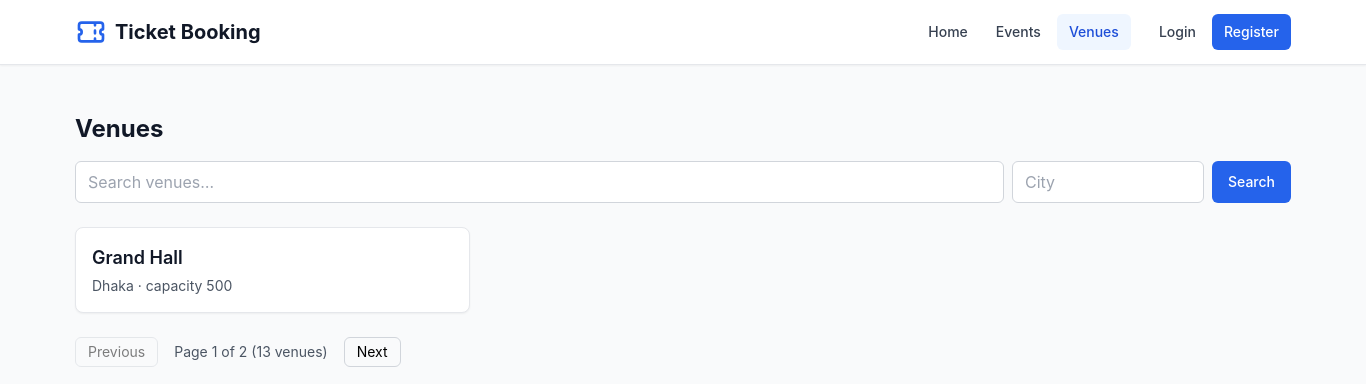
Test: venues pages › renders the venue catalogue with city filter and pagination
This screenshot has width=1366, height=384.
Check: the text "Page 1 of 2 (13 venues)" is shown, box [174, 342, 328, 362]
Type "Dhaka" into the field named "Filter by city" at (1108, 182), box [1012, 161, 1204, 203]
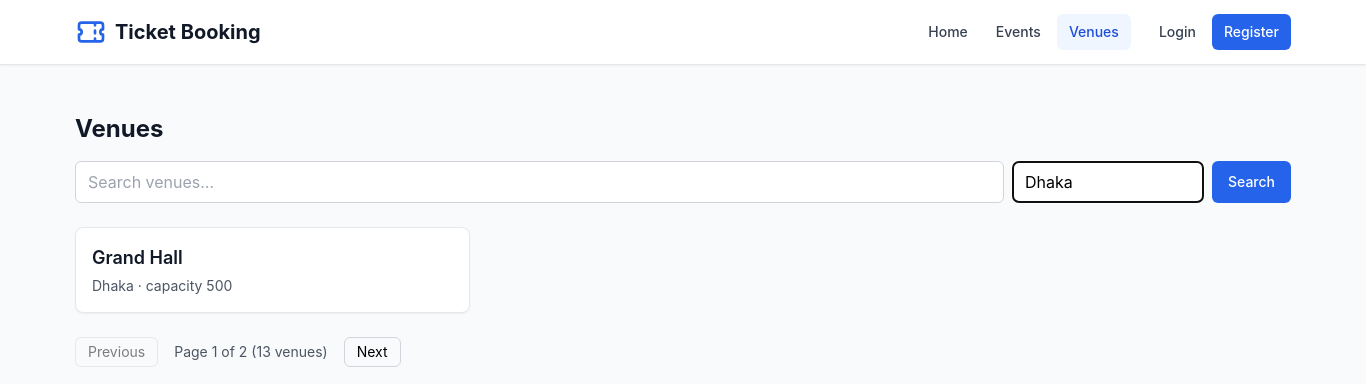
Click the button "Search" at (1252, 182), box [1212, 161, 1291, 203]
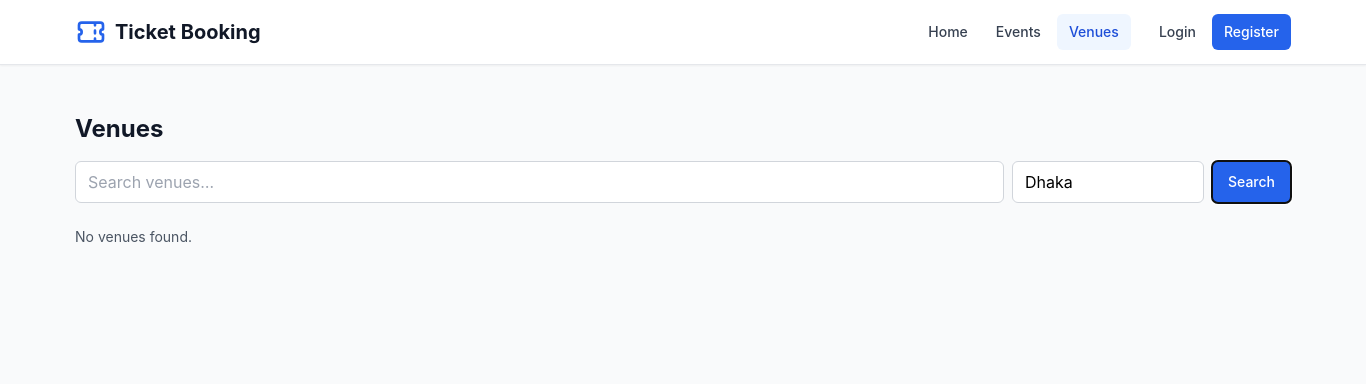
Check: the text "No venues found." is shown, box [75, 228, 192, 245]
